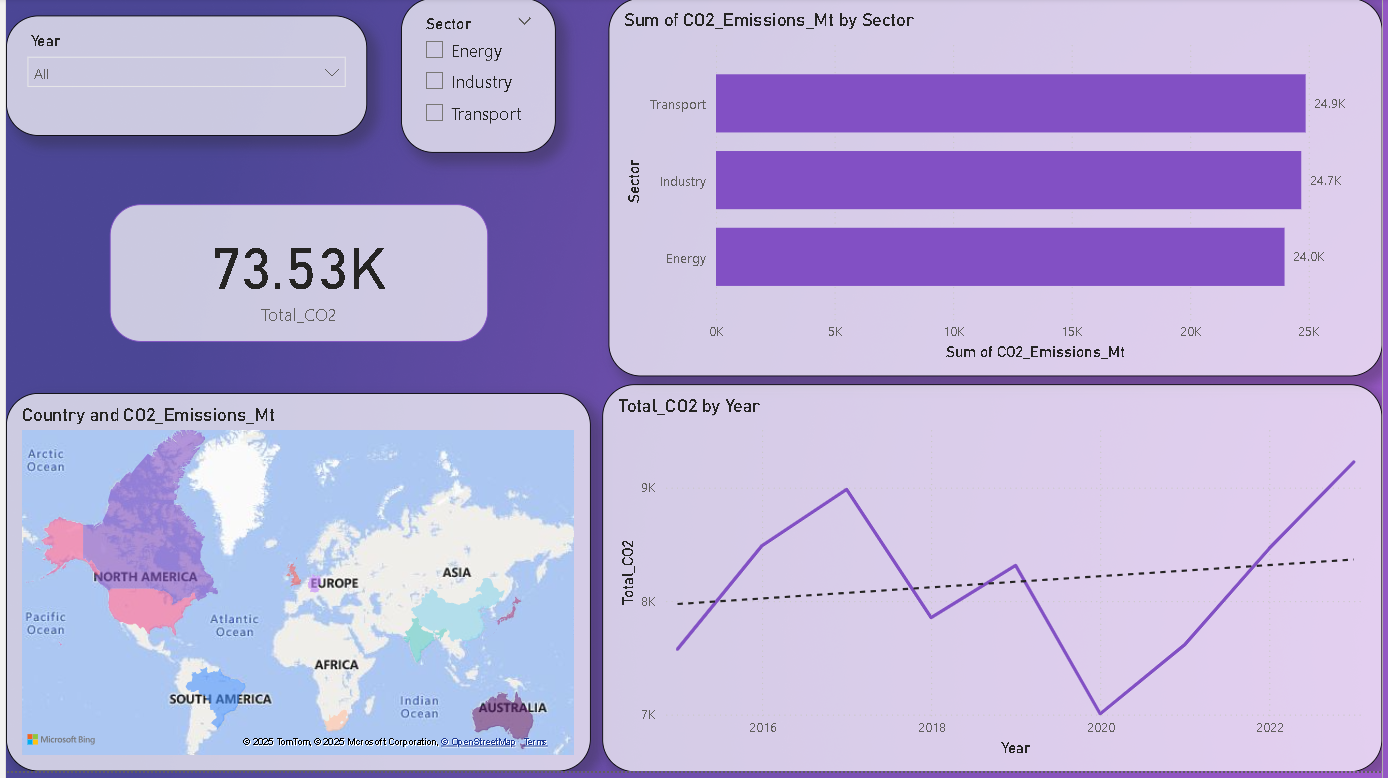

The page's visual inventory and layout, read from the dashboard file:
{"tool":"powerbi","page":{"name":"Page 1","canvas":[1280,720],"ordinal":0},"visuals":[{"type":"filledMap","fields":{"Category":["Sheet1.Country"],"Series":["Sheet1.CO2_Emissions_Mt"]},"box":[0,368,544,352],"z":0},{"type":"barChart","fields":{"Category":["Sheet1.Sector"],"Y":["Sum(Sheet1.CO2_Emissions_Mt)"]},"box":[560,0,720,352],"z":1000},{"type":"lineChart","fields":{"Category":["Sheet1.Year"],"Y":["Sheet1.Total_CO2"]},"box":[554.4,359.5,725.9,360.9],"z":2000},{"type":"slicer","fields":{"Values":["Sheet1.Year"]},"box":[0,16,336,112],"z":3000},{"type":"slicer","fields":{"Values":["Sheet1.Sector"]},"box":[368,0,144,144],"z":4000},{"type":"card","fields":{"Values":["Sheet1.Total_CO2"]},"box":[96,192,352,128],"z":5000}]}

Visuals, with their boxes in screenshot pixels (x1, y1, x2, y2), scaled from the page's 1280x720 canvas onto the 1388x778 screenshot:
filledMap - Sheet1.Country x Sheet1.CO2_Emissions_Mt: x1=0, y1=398, x2=590, y2=777
barChart - Sheet1.Sector x Sum(Sheet1.CO2_Emissions_Mt): x1=607, y1=0, x2=1387, y2=380
lineChart - Sheet1.Year x Sheet1.Total_CO2: x1=601, y1=388, x2=1387, y2=777
slicer - Sheet1.Year: x1=0, y1=17, x2=364, y2=138
slicer - Sheet1.Sector: x1=399, y1=0, x2=555, y2=156
card - Sheet1.Total_CO2: x1=104, y1=207, x2=486, y2=346
